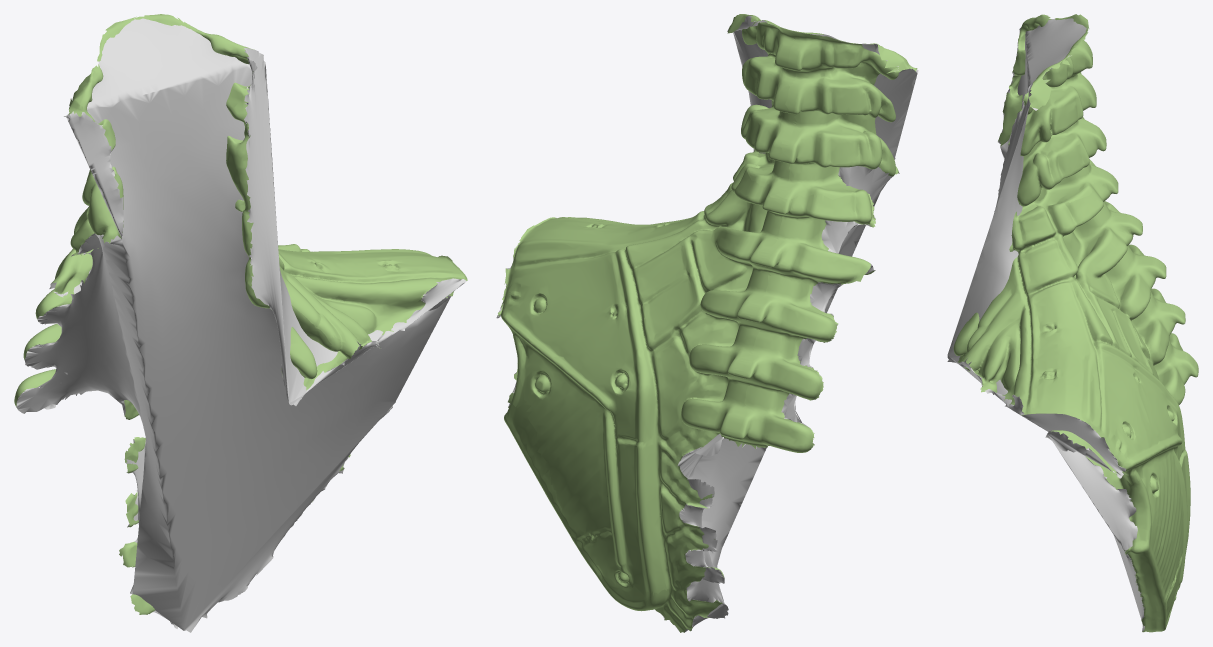
The model's file is Hi3D_Segmented Pastel Female Android 3D Model Asset_part13_20261014_192059.glb.
3 views of the same model, side by side, from view 1: azimuth 30°, elevation 25°; view 2: azimuth 150°, elevation 25°; view 3: azimuth 270°, elevation 25° (orthographic). The views are drawn at different scales.
Parts seen in each view (by area): view 1: Hi3D_Segmented Pastel Female Android 3D Model Asset_part13_2; view 2: Hi3D_Segmented Pastel Female Android 3D Model Asset_part13_2; view 3: Hi3D_Segmented Pastel Female Android 3D Model Asset_part13_2.
Boxes of the visible parts, x1=… form: Hi3D_Segmented Pastel Female Android 3D Model Asset_part13_2: x1=14, y1=14, x2=467, y2=632; Hi3D_Segmented Pastel Female Android 3D Model Asset_part13_2: x1=496, y1=14, x2=918, y2=632; Hi3D_Segmented Pastel Female Android 3D Model Asset_part13_2: x1=947, y1=14, x2=1198, y2=632.
Size of the model in its own units: 0.1264 by 0.1919 by 0.0769.
